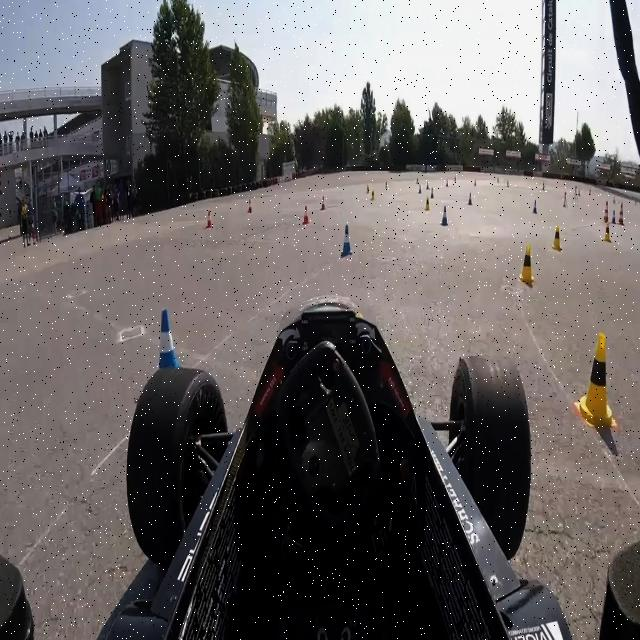blue_cone: (144, 306, 182, 410), (341, 225, 353, 258), (440, 206, 449, 228), (532, 199, 538, 215), (611, 210, 617, 224)
large_orange_cone: (603, 200, 609, 222), (618, 204, 624, 224)
orange_cone: (302, 206, 312, 227), (205, 210, 212, 230), (247, 197, 253, 213), (320, 197, 326, 212)
yellow_cone: (576, 338, 612, 426), (518, 247, 536, 287), (552, 227, 562, 251), (604, 224, 610, 242), (425, 197, 431, 210), (372, 190, 376, 202), (367, 184, 369, 194)
